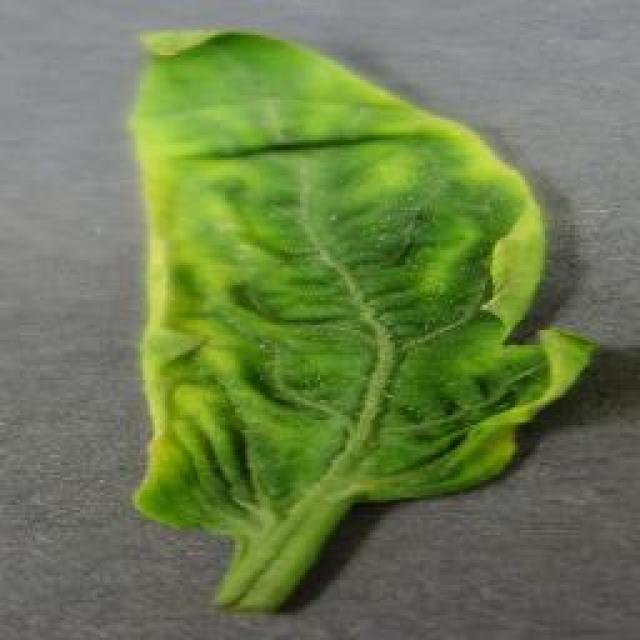Tom_Yellow_Leaf_Curl_Virus: (152, 39, 532, 482)
